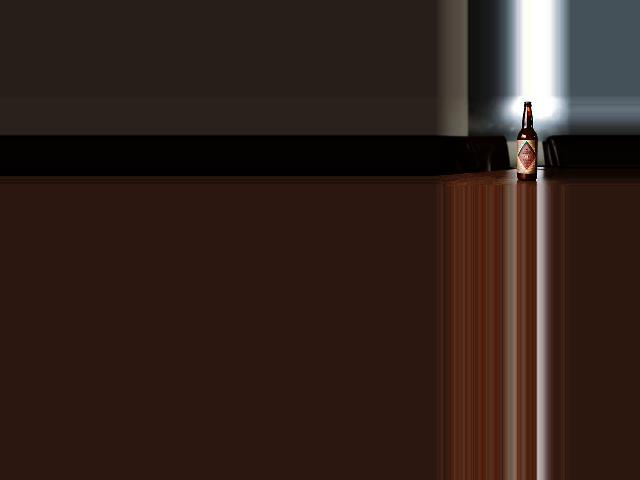beer: (518, 102, 537, 181)
